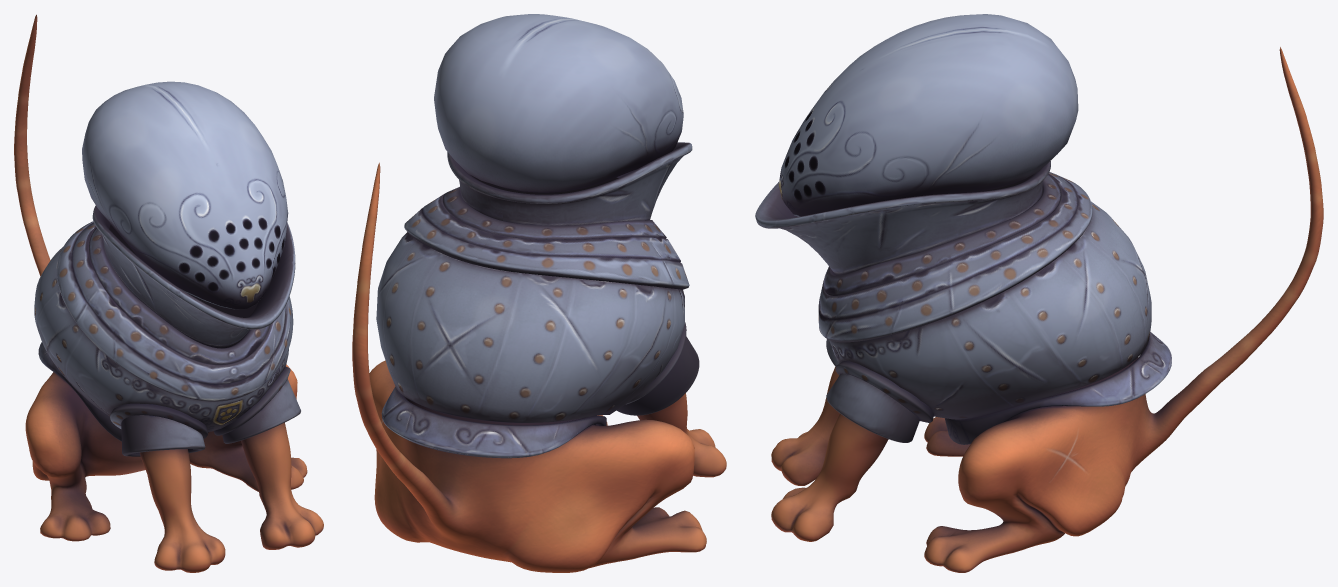
Rendered from cat_low.fbx.
3 views of the same model, side by side, from view 1: azimuth 30°, elevation 25°; view 2: azimuth 150°, elevation 25°; view 3: azimuth 270°, elevation 25° (orthographic). The views are drawn at different scales.
Visible parts, largest first — view 1: cat_low; view 2: cat_low; view 3: cat_low.
Boxes of the visible parts, x1=… form: cat_low: x1=14, y1=14, x2=323, y2=572; cat_low: x1=352, y1=14, x2=726, y2=572; cat_low: x1=755, y1=14, x2=1323, y2=572.
Bounding box in the file's own units: 88.86 × 131 × 143.
